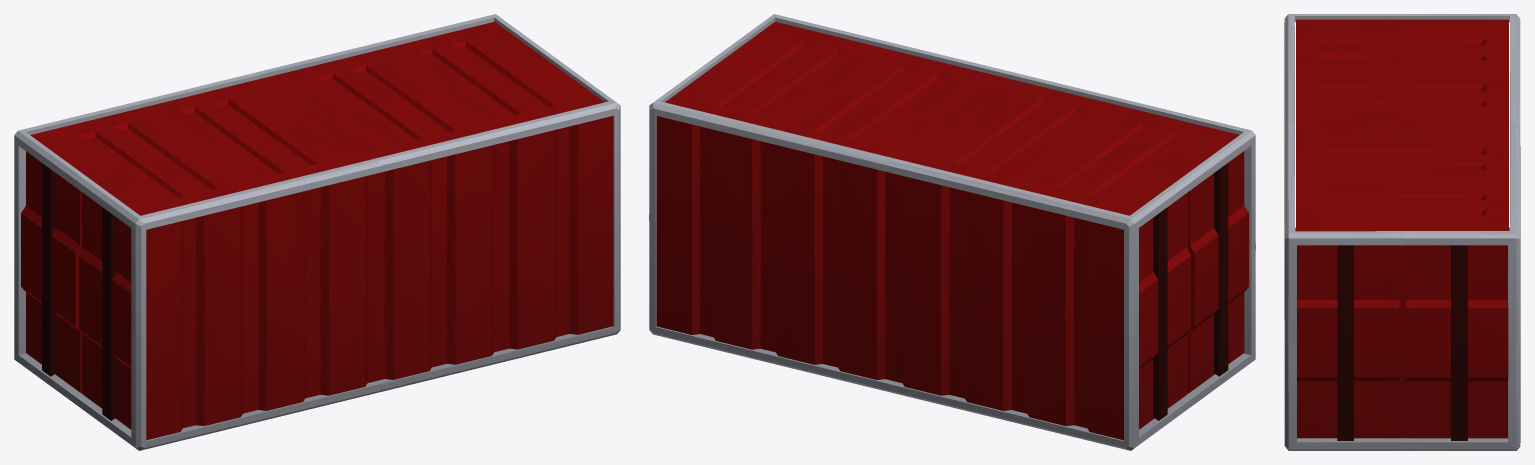
File: Container_Red.glb
3 views of the same model, side by side, from view 1: azimuth 30°, elevation 25°; view 2: azimuth 150°, elevation 25°; view 3: azimuth 270°, elevation 25° (orthographic). The views are drawn at different scales.
Parts seen in each view (by area): view 1: Container_Red; view 2: Container_Red; view 3: Container_Red.
Part boxes in pixels (left/top/right/bottom): Container_Red: left=14, top=14, right=620, bottom=450; Container_Red: left=649, top=14, right=1255, bottom=450; Container_Red: left=1284, top=14, right=1520, bottom=450.
Size of the model in its own units: 5.71 by 2.6 by 2.56.
